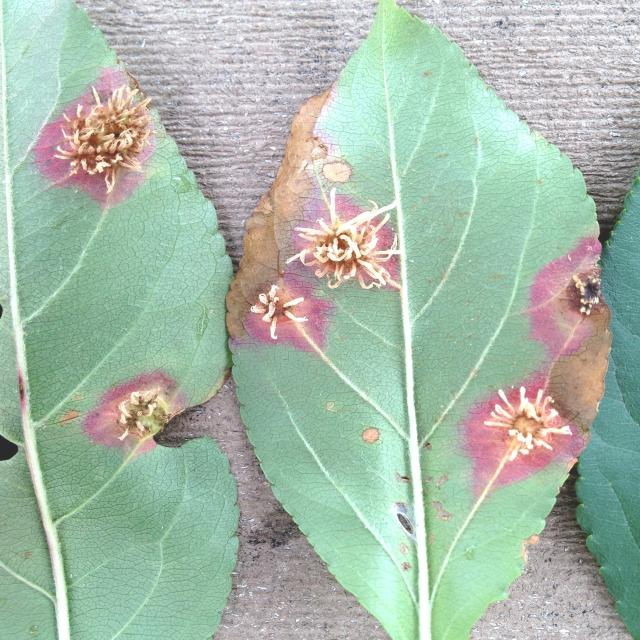Gymnosporangium_Rusts: (19, 40, 621, 573)
